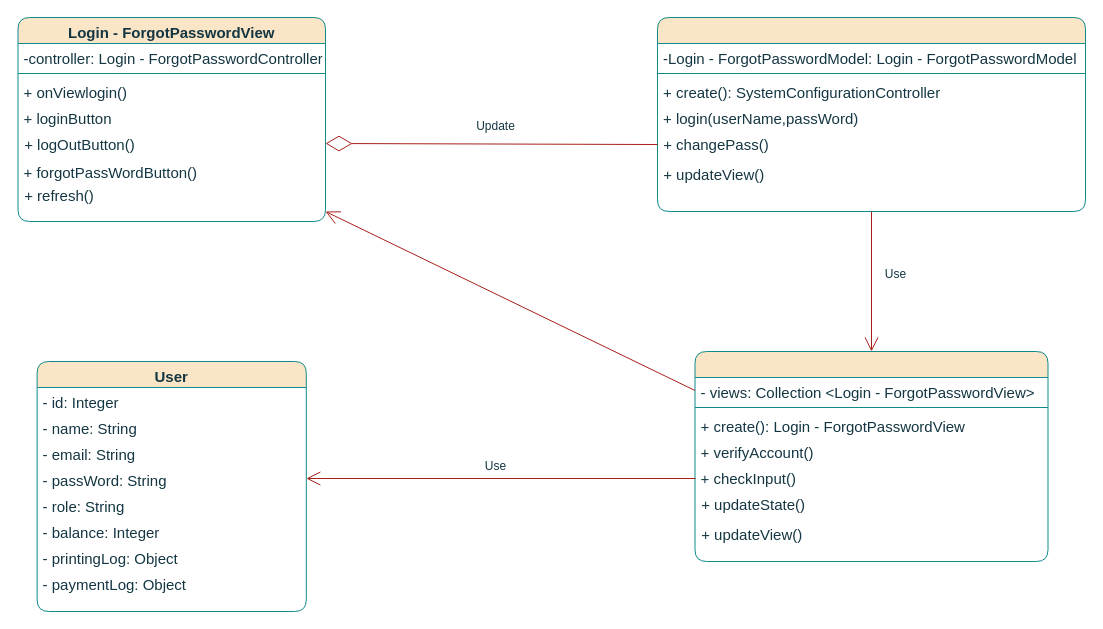
The diagram is 1103 pixels wide and 629 high, and some of its shapes have lost their labels. The box of each missing label's shape, as (x1, y1, x2, y2) in pixels:
Login - ForgotPasswordController: (656, 16, 1086, 212)
Login - ForgotPasswordModel: (694, 350, 1048, 562)
